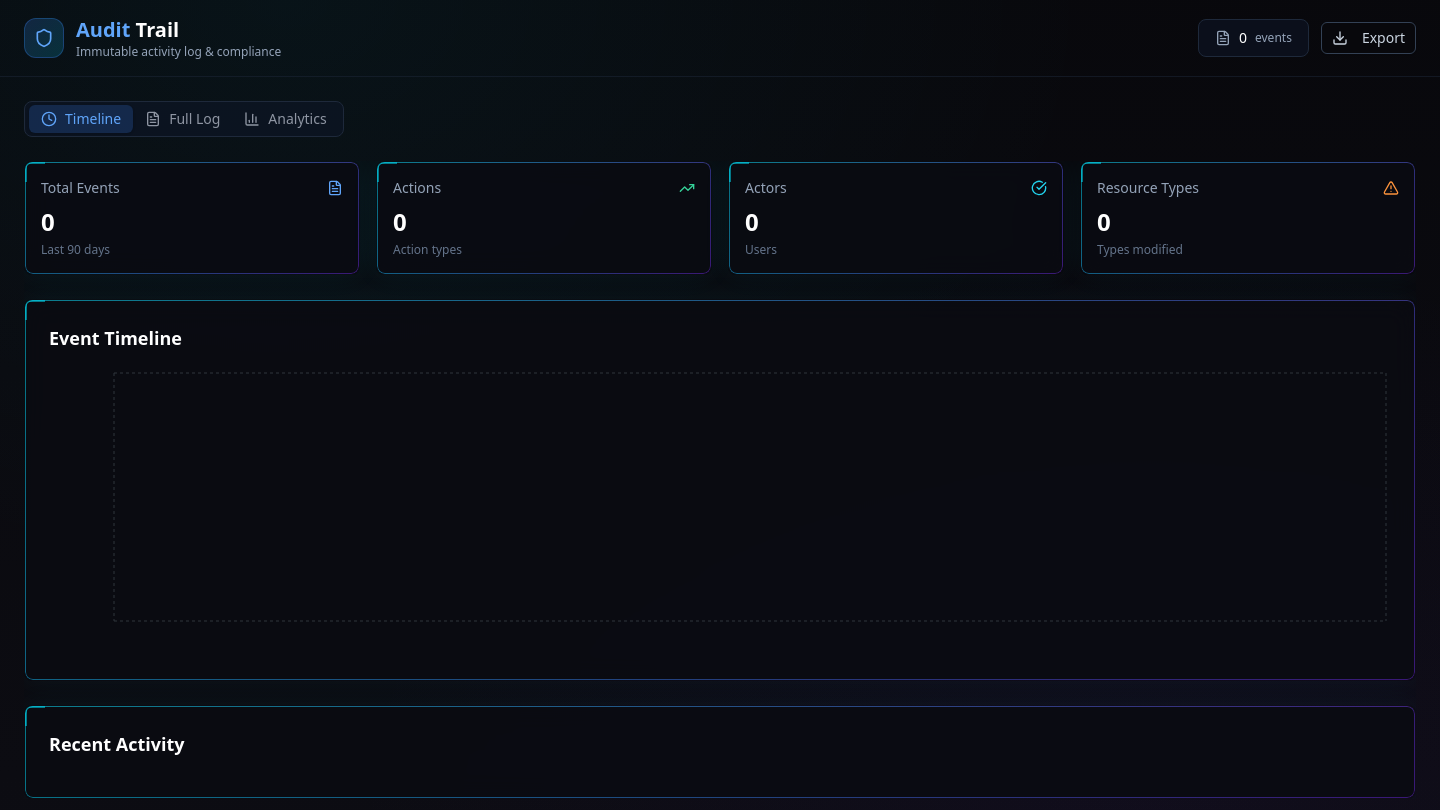
Test: AuditPage › Analytics Tab › should navigate to analytics tab
The image size is (1440, 810).
Click the tab "Analytics": (286, 119) [232,105,339,133]
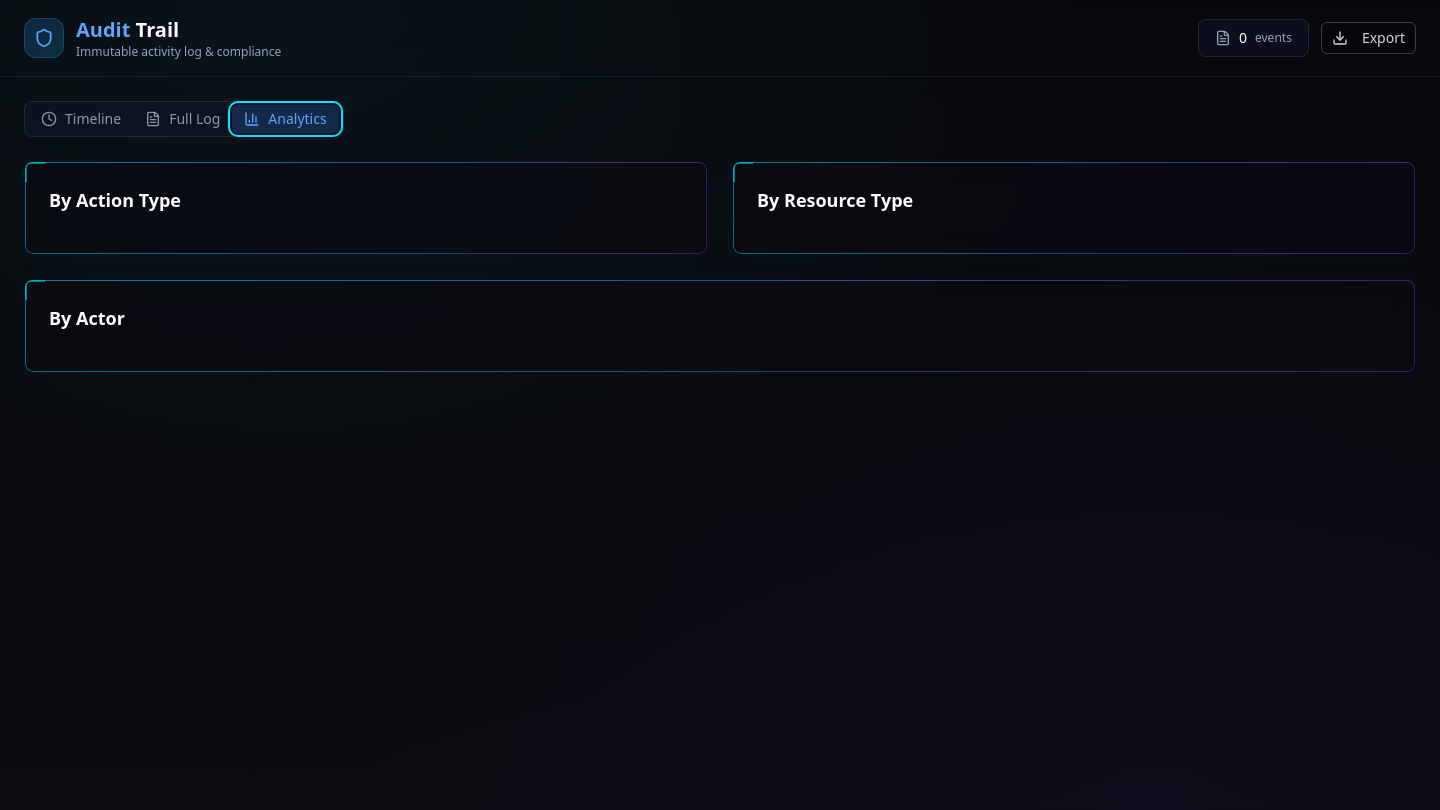
Check: the heading "By Action Type" is shown, box [49,188,181,212]
